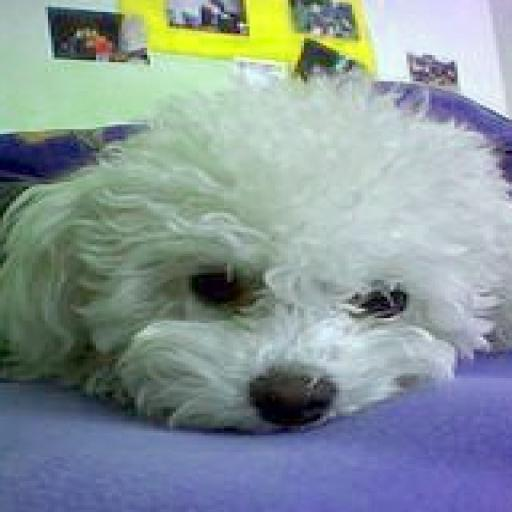dog_face: (3, 96, 512, 438)
